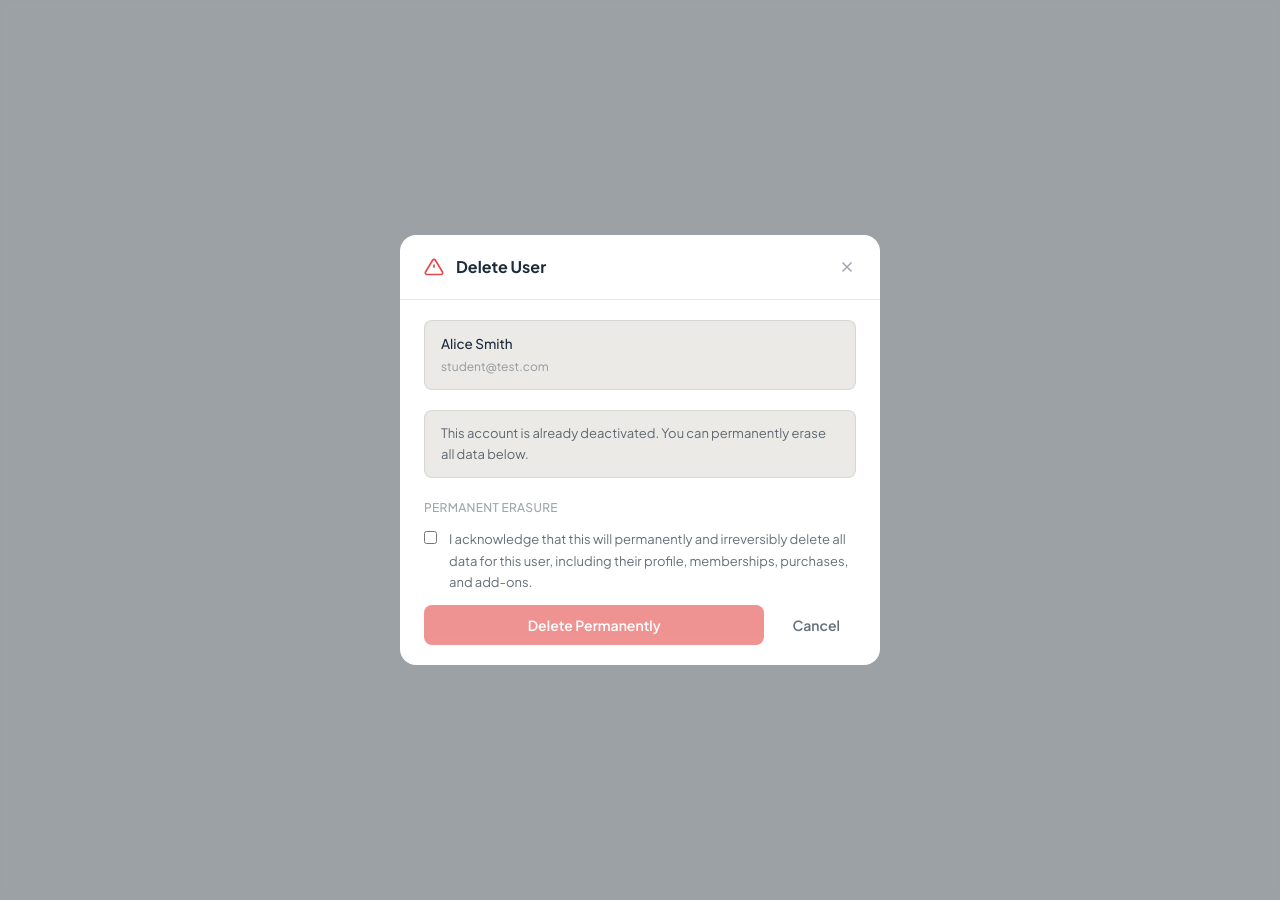
DeleteUserModal › already-inactive user path › Delete Permanently is disabled until the erasure checkbox is ticked
Expected: the button "Delete Permanently" is disabled, [424,605,764,645]
Click the checkbox: (430, 538) [424,531,437,544]
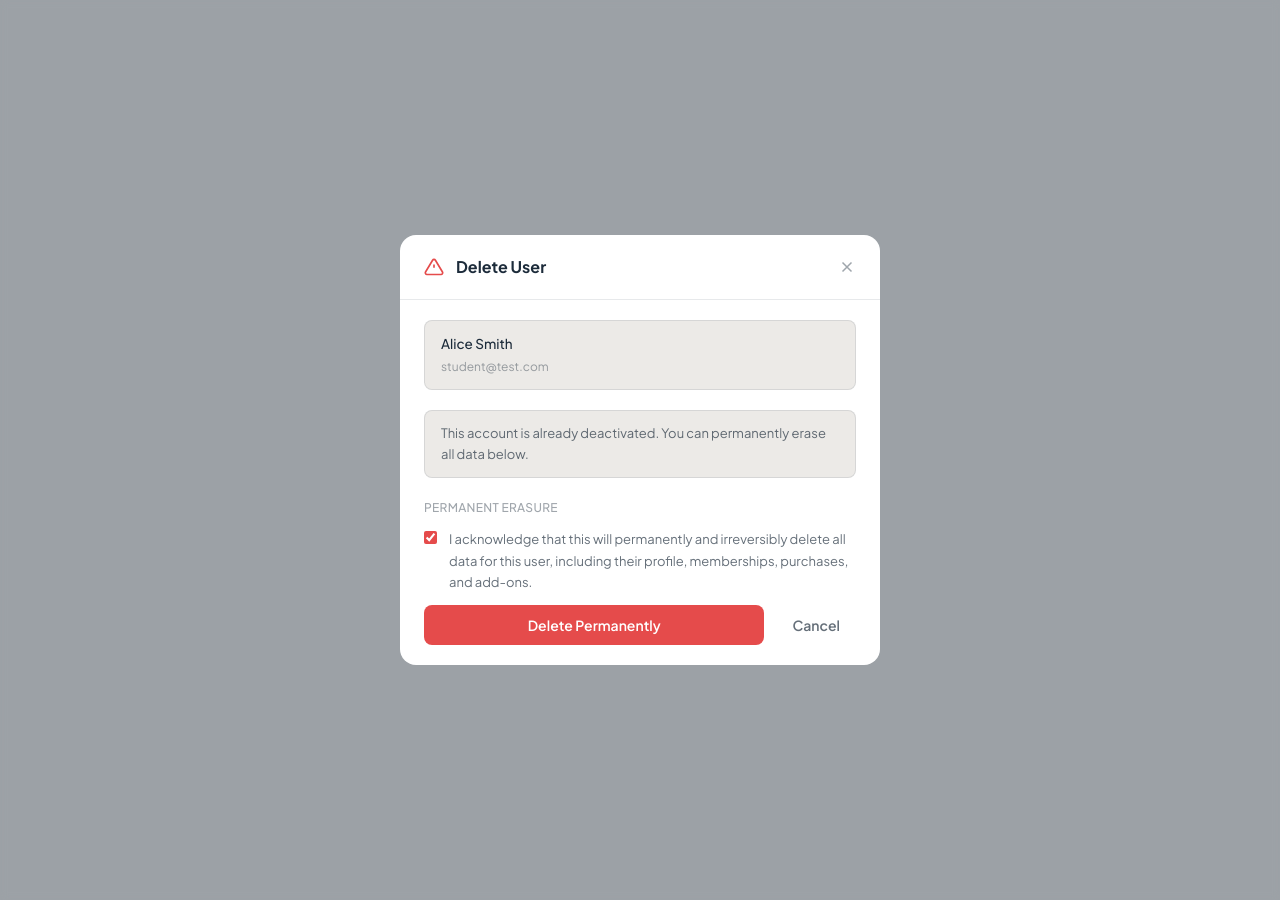
Now the button "Delete Permanently" is enabled, box [424,605,764,645]
